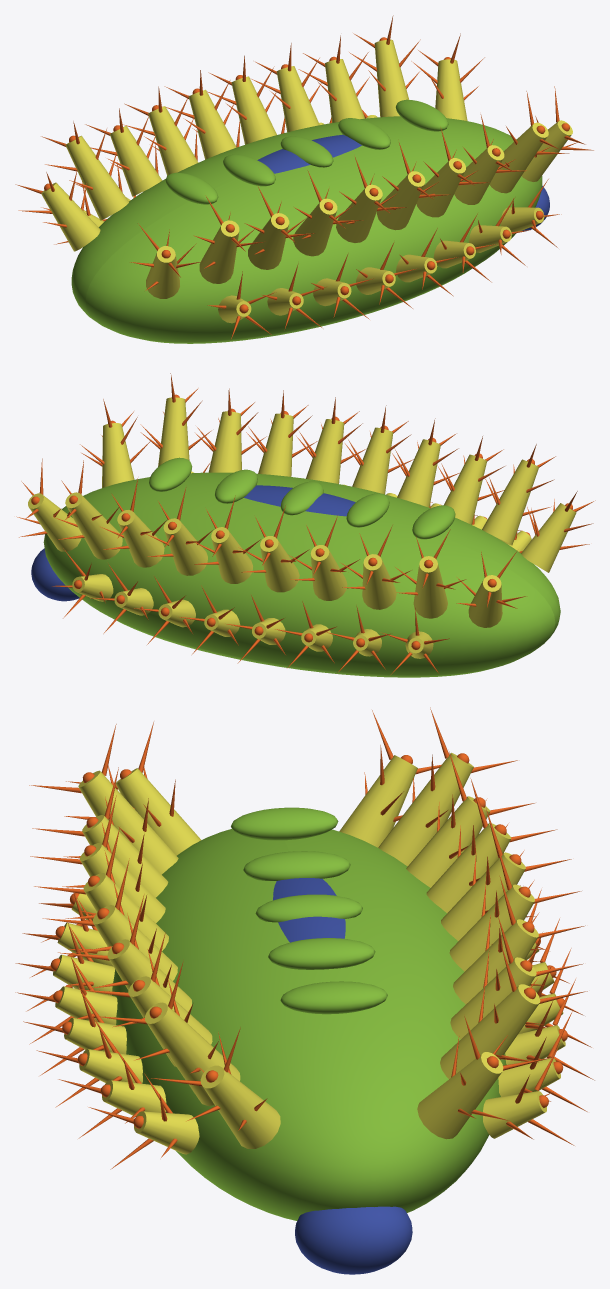
The model's file is ulat_api.glb.
3 views of the same model, one above another, from view 1: azimuth 30°, elevation 25°; view 2: azimuth 150°, elevation 25°; view 3: azimuth 270°, elevation 25° (orthographic). The views are drawn at different scales.
Parts seen in each view (by area): view 1: body, scolus_dorsal_R2_stem, scolus_dorsal_R1_stem, scolus_dorsal_R3_stem, scolus_dorsal_R9_stem, scolus_dorsal_R4_stem, scolus_dorsal_L9_stem, scolus_dorsal_R5_stem, scolus_dorsal_R6_stem, scolus_dorsal_R7_stem, scolus_dorsal_L2_stem, scolus_dorsal_R8_stem (+23 smaller); view 2: body, scolus_dorsal_L2_stem, scolus_dorsal_R9_stem, scolus_dorsal_L1_stem, scolus_dorsal_L4_stem, scolus_dorsal_L5_stem, scolus_dorsal_L6_stem, scolus_dorsal_L3_stem, scolus_dorsal_L7_stem, scolus_dorsal_L8_stem, scolus_dorsal_L10_stem, scolus_dorsal_R10_stem (+24 smaller); view 3: body, head, scolus_dorsal_R2_stem, scolus_dorsal_R10_stem, scolus_dorsal_L10_stem, scolus_dorsal_R9_stem, scolus_dorsal_R1_stem, scolus_dorsal_L9_stem, scolus_dorsal_L2_stem, scolus_dorsal_R3_stem, saddle_band_1, saddle_band_5 (+26 smaller).
Part boxes in pixels (box(x1,y1,x2,y2)): body: box(71, 116, 542, 343); scolus_dorsal_R2_stem: box(65, 135, 128, 220); scolus_dorsal_R1_stem: box(41, 182, 100, 251); scolus_dorsal_R3_stem: box(109, 125, 162, 196); scolus_dorsal_R9_stem: box(374, 39, 409, 117); scolus_dorsal_R4_stem: box(148, 106, 198, 175); scolus_dorsal_L9_stem: box(489, 122, 548, 193); scolus_dorsal_R5_stem: box(188, 89, 236, 159); scolus_dorsal_R6_stem: box(231, 76, 276, 144); scolus_dorsal_R7_stem: box(276, 66, 319, 132); scolus_dorsal_L2_stem: box(199, 220, 239, 283); scolus_dorsal_R8_stem: box(325, 59, 364, 122); body: box(43, 472, 560, 677); scolus_dorsal_L2_stem: box(482, 459, 538, 545); scolus_dorsal_R9_stem: box(65, 492, 122, 559); scolus_dorsal_L1_stem: box(521, 503, 576, 572); scolus_dorsal_L4_stem: box(397, 439, 440, 507); scolus_dorsal_L5_stem: box(352, 427, 393, 494); scolus_dorsal_L6_stem: box(306, 419, 344, 483); scolus_dorsal_L3_stem: box(444, 454, 486, 524); scolus_dorsal_L7_stem: box(258, 413, 293, 476); scolus_dorsal_L8_stem: box(208, 411, 241, 472); scolus_dorsal_L10_stem: box(102, 423, 134, 487); scolus_dorsal_R10_stem: box(28, 493, 82, 551); body: box(111, 829, 506, 1220); head: box(295, 1206, 412, 1274); scolus_dorsal_R2_stem: box(378, 752, 473, 866); scolus_dorsal_R10_stem: box(417, 1052, 503, 1139); scolus_dorsal_L10_stem: box(200, 1065, 280, 1148); scolus_dorsal_R9_stem: box(440, 984, 540, 1078); scolus_dorsal_R1_stem: box(339, 755, 417, 847); scolus_dorsal_L9_stem: box(145, 1002, 240, 1105); scolus_dorsal_L2_stem: box(78, 770, 178, 874); scolus_dorsal_R3_stem: box(406, 796, 490, 887); saddle_band_1: box(231, 807, 338, 840); saddle_band_5: box(280, 981, 387, 1014).
Bounding box in the file's own units: 0.0369 × 0.0135 × 0.0256.
